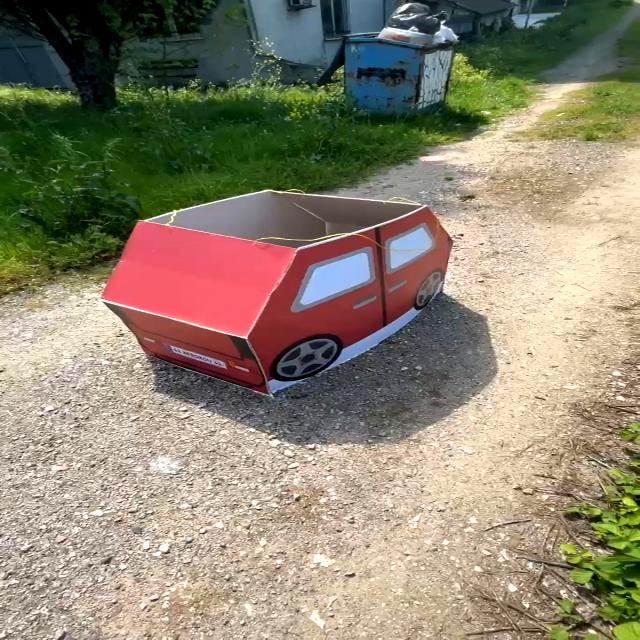red_car: (65, 165, 484, 409)
